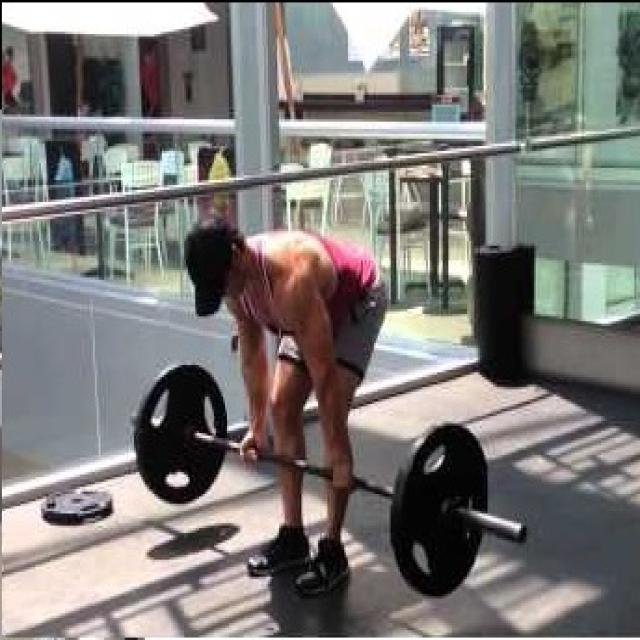deadlift: (120, 199, 532, 640)
